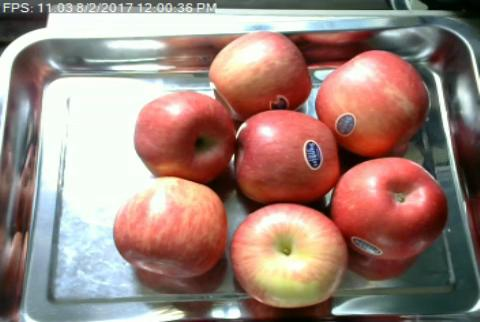apple: (314, 48, 430, 155), (331, 155, 447, 260), (231, 203, 347, 308), (113, 176, 228, 279), (229, 111, 341, 203), (132, 91, 234, 181), (207, 29, 311, 112)
